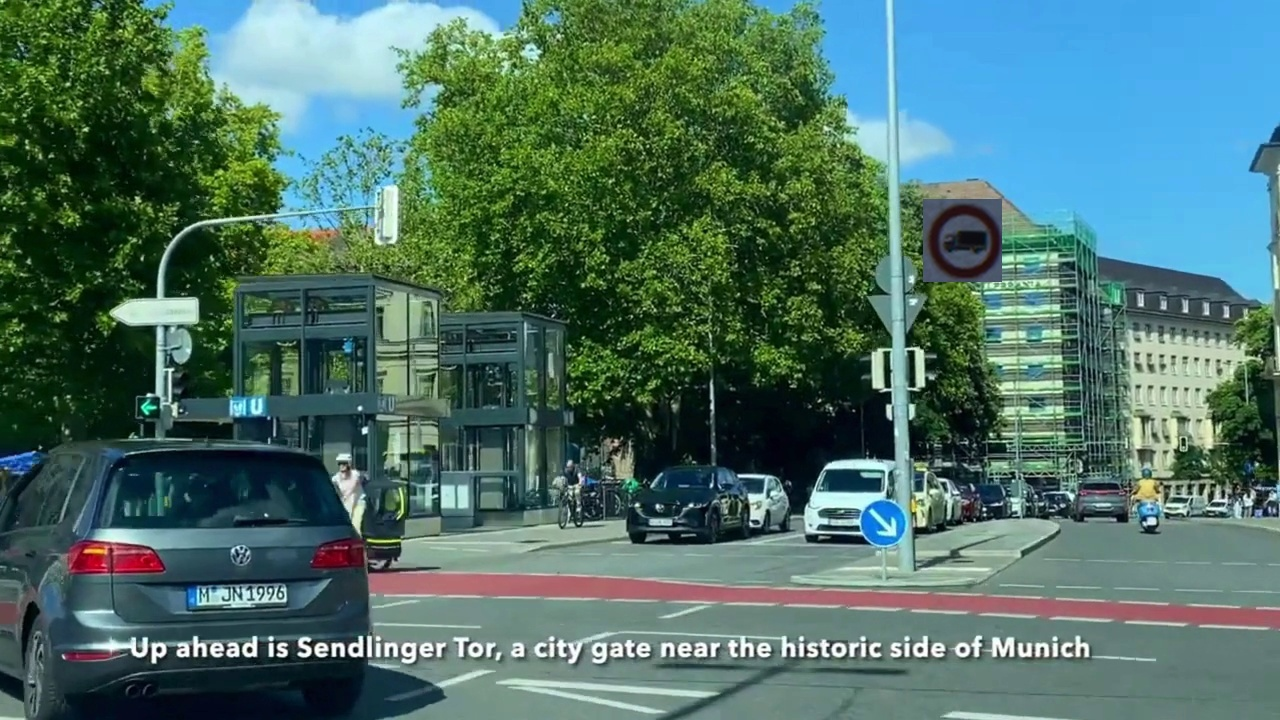Veh >3.5t prohib: (923, 199, 1002, 282)
